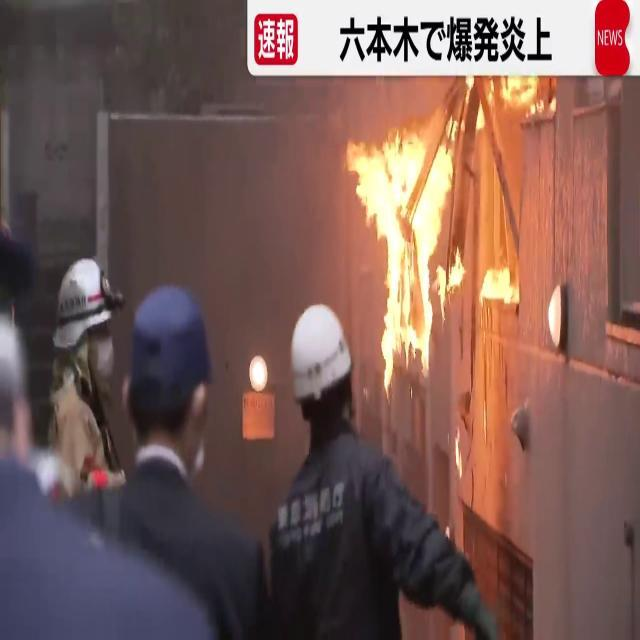Fire: (346, 94, 520, 388)
